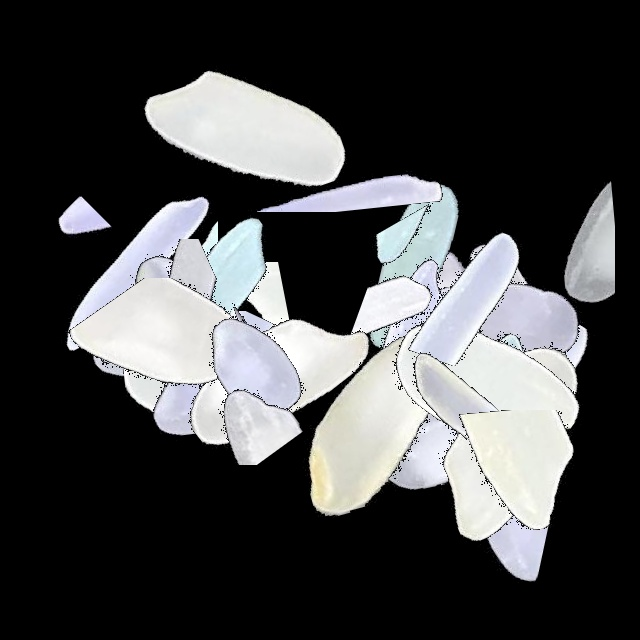Broken: (346, 192, 596, 366), (375, 270, 625, 440), (407, 169, 568, 419), (395, 390, 549, 640), (43, 278, 293, 429), (24, 239, 274, 389), (350, 306, 600, 455), (390, 410, 640, 555), (303, 226, 553, 369), (375, 196, 513, 446), (297, 267, 547, 401), (483, 115, 615, 365), (106, 311, 356, 438), (111, 340, 361, 465), (405, 322, 529, 572), (207, 89, 457, 212), (390, 431, 640, 545), (105, 149, 218, 399), (386, 358, 636, 453), (115, 262, 365, 352), (335, 192, 585, 282), (441, 351, 529, 601), (160, 289, 410, 372), (73, 348, 323, 428), (43, 128, 121, 378), (64, 408, 314, 483), (459, 222, 534, 472), (474, 258, 549, 508)
Full: (10, 146, 260, 396), (28, 216, 278, 466), (383, 287, 633, 537), (390, 277, 640, 527), (385, 183, 635, 433), (290, 141, 540, 391), (373, 360, 623, 610), (121, 8, 371, 258), (39, 196, 289, 446), (80, 173, 330, 423), (321, 317, 571, 567), (48, 190, 298, 440), (93, 254, 343, 504), (390, 289, 640, 539), (81, 266, 331, 516), (148, 251, 398, 501), (390, 317, 640, 567), (376, 283, 626, 533), (254, 297, 504, 547), (359, 264, 609, 514), (356, 301, 606, 551), (129, 242, 379, 492)
